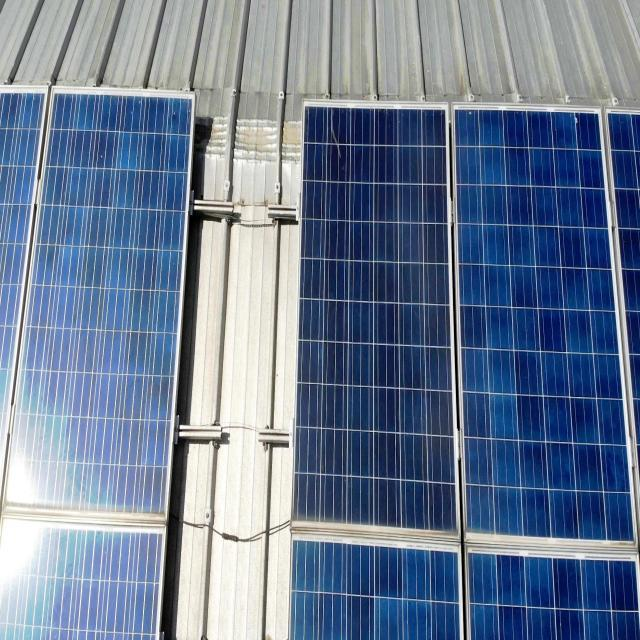faulty: (297, 103, 463, 540)
no faulty: (2, 92, 199, 514), (460, 107, 634, 540)
